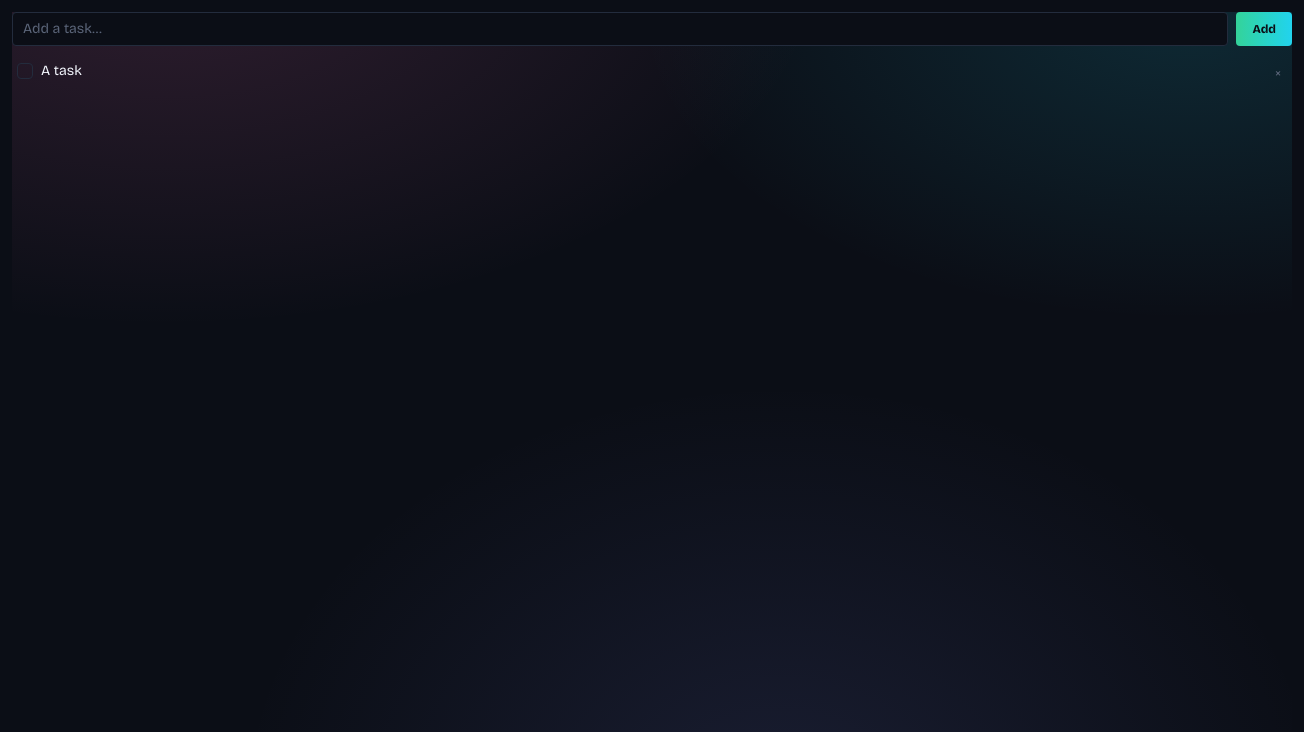
Test: editing a todo › commits the edit on Enter
Click the button "A task" at (61, 70), box [37,59,1267,82]
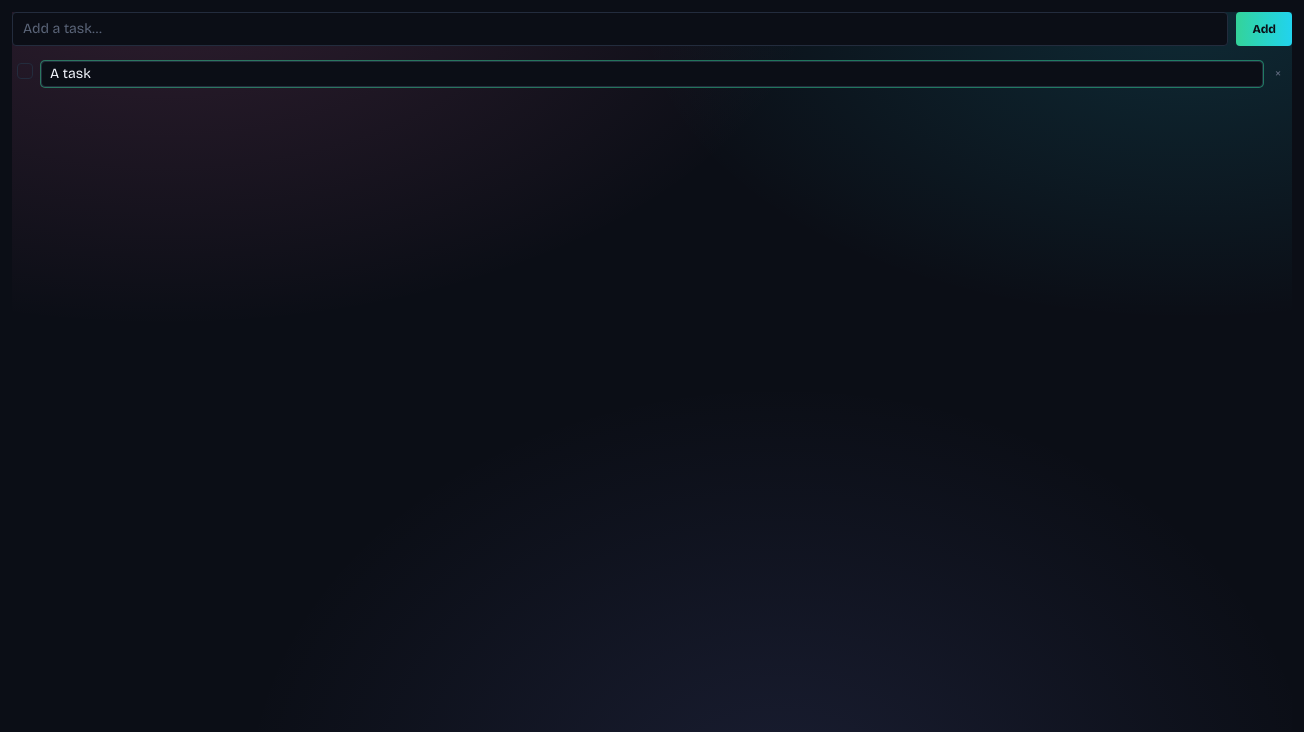
Replace the text in the field named "Edit \"A task\"" with "Edited" at (652, 74), box [41,61,1263,87]
Then press Enter
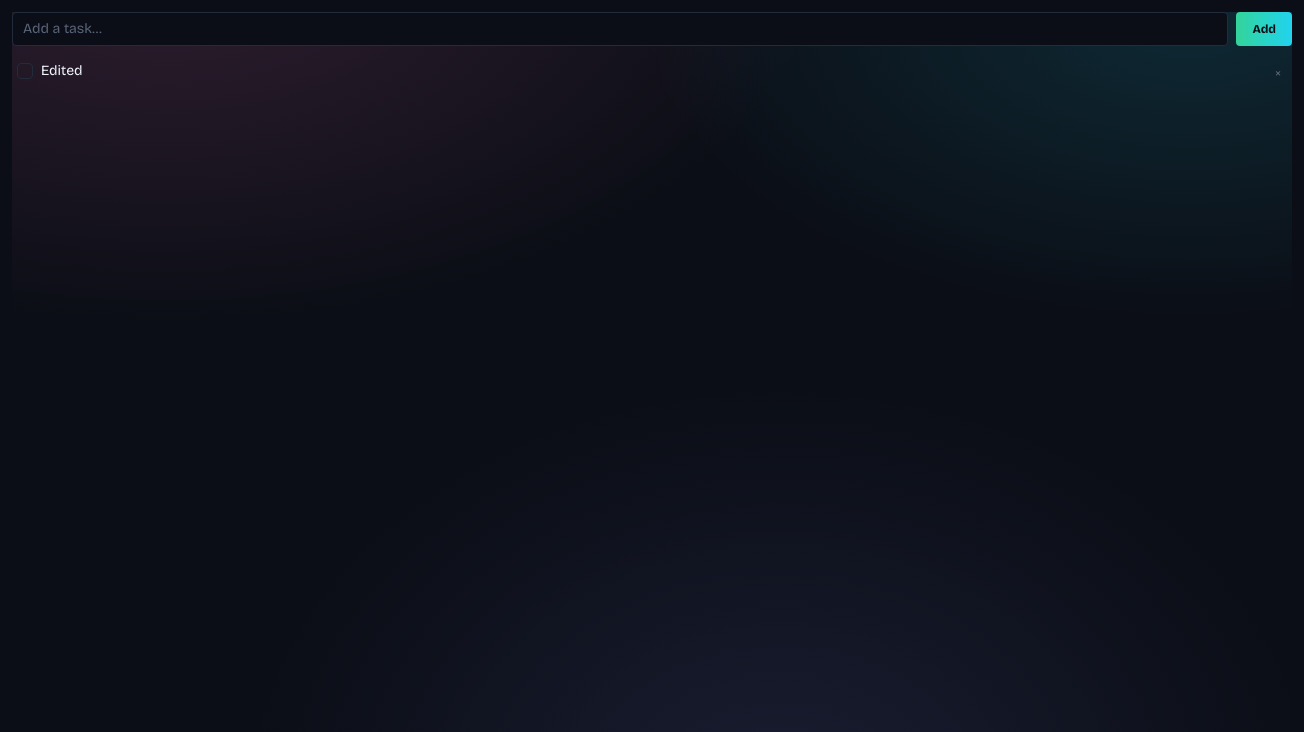
Check: the button "Edited" is shown, box [37,59,1267,82]
